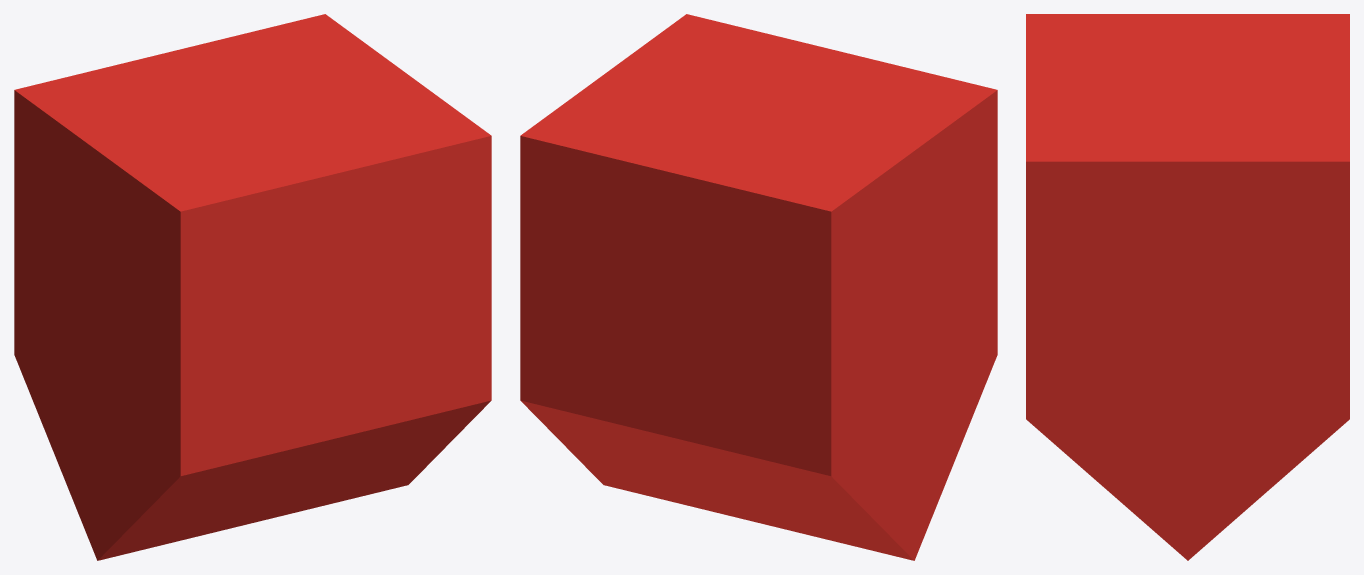
Rendered from House.fbx.
3 renders of one model, left to right at view 1: azimuth 30°, elevation 25°; view 2: azimuth 150°, elevation 25°; view 3: azimuth 270°, elevation 25°, orthographic. The views are drawn at different scales.
Parts seen in each view (by area): view 1: Cube; view 2: Cube; view 3: Cube.
Part boxes in pixels (box(x1,y1,x2,y2)): Cube: box(14, 14, 491, 560); Cube: box(520, 14, 997, 560); Cube: box(1026, 14, 1349, 560).
Bounding box in the file's own units: 2138 × 2694 × 1980.
